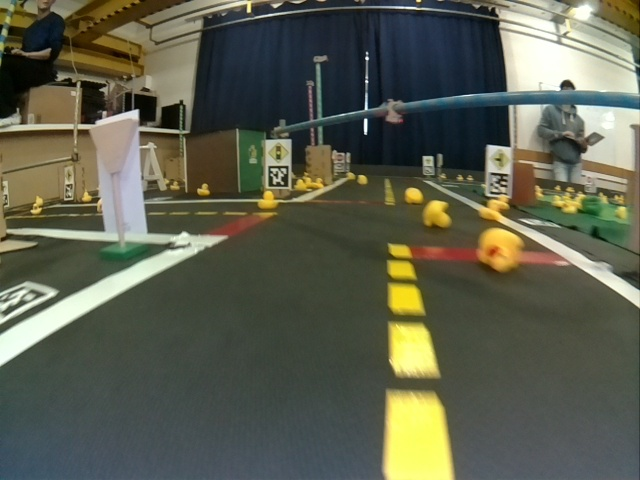Duckie: (479, 227, 522, 268), (424, 200, 446, 228), (259, 193, 277, 209), (404, 188, 421, 201), (199, 185, 208, 195), (31, 207, 38, 214)
Intersection sign: (489, 148, 511, 169)
QR code: (1, 281, 56, 323), (268, 165, 289, 187), (489, 177, 509, 194)
Signal sign: (268, 141, 289, 164)
